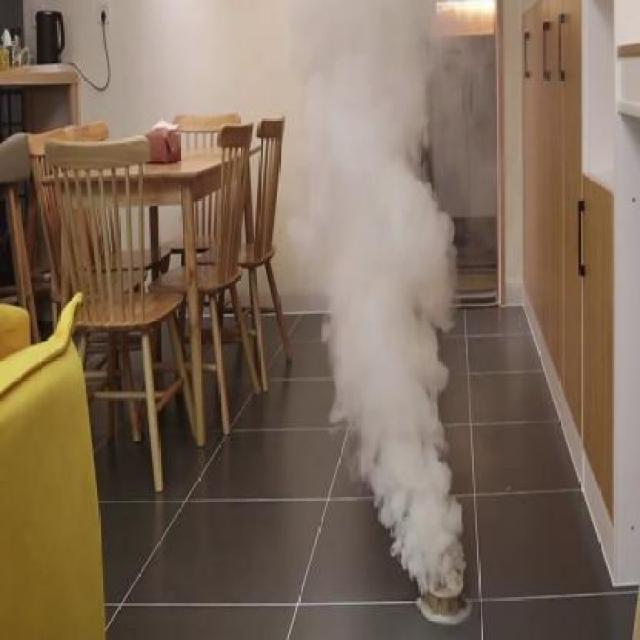smoke: (287, 6, 504, 576)
